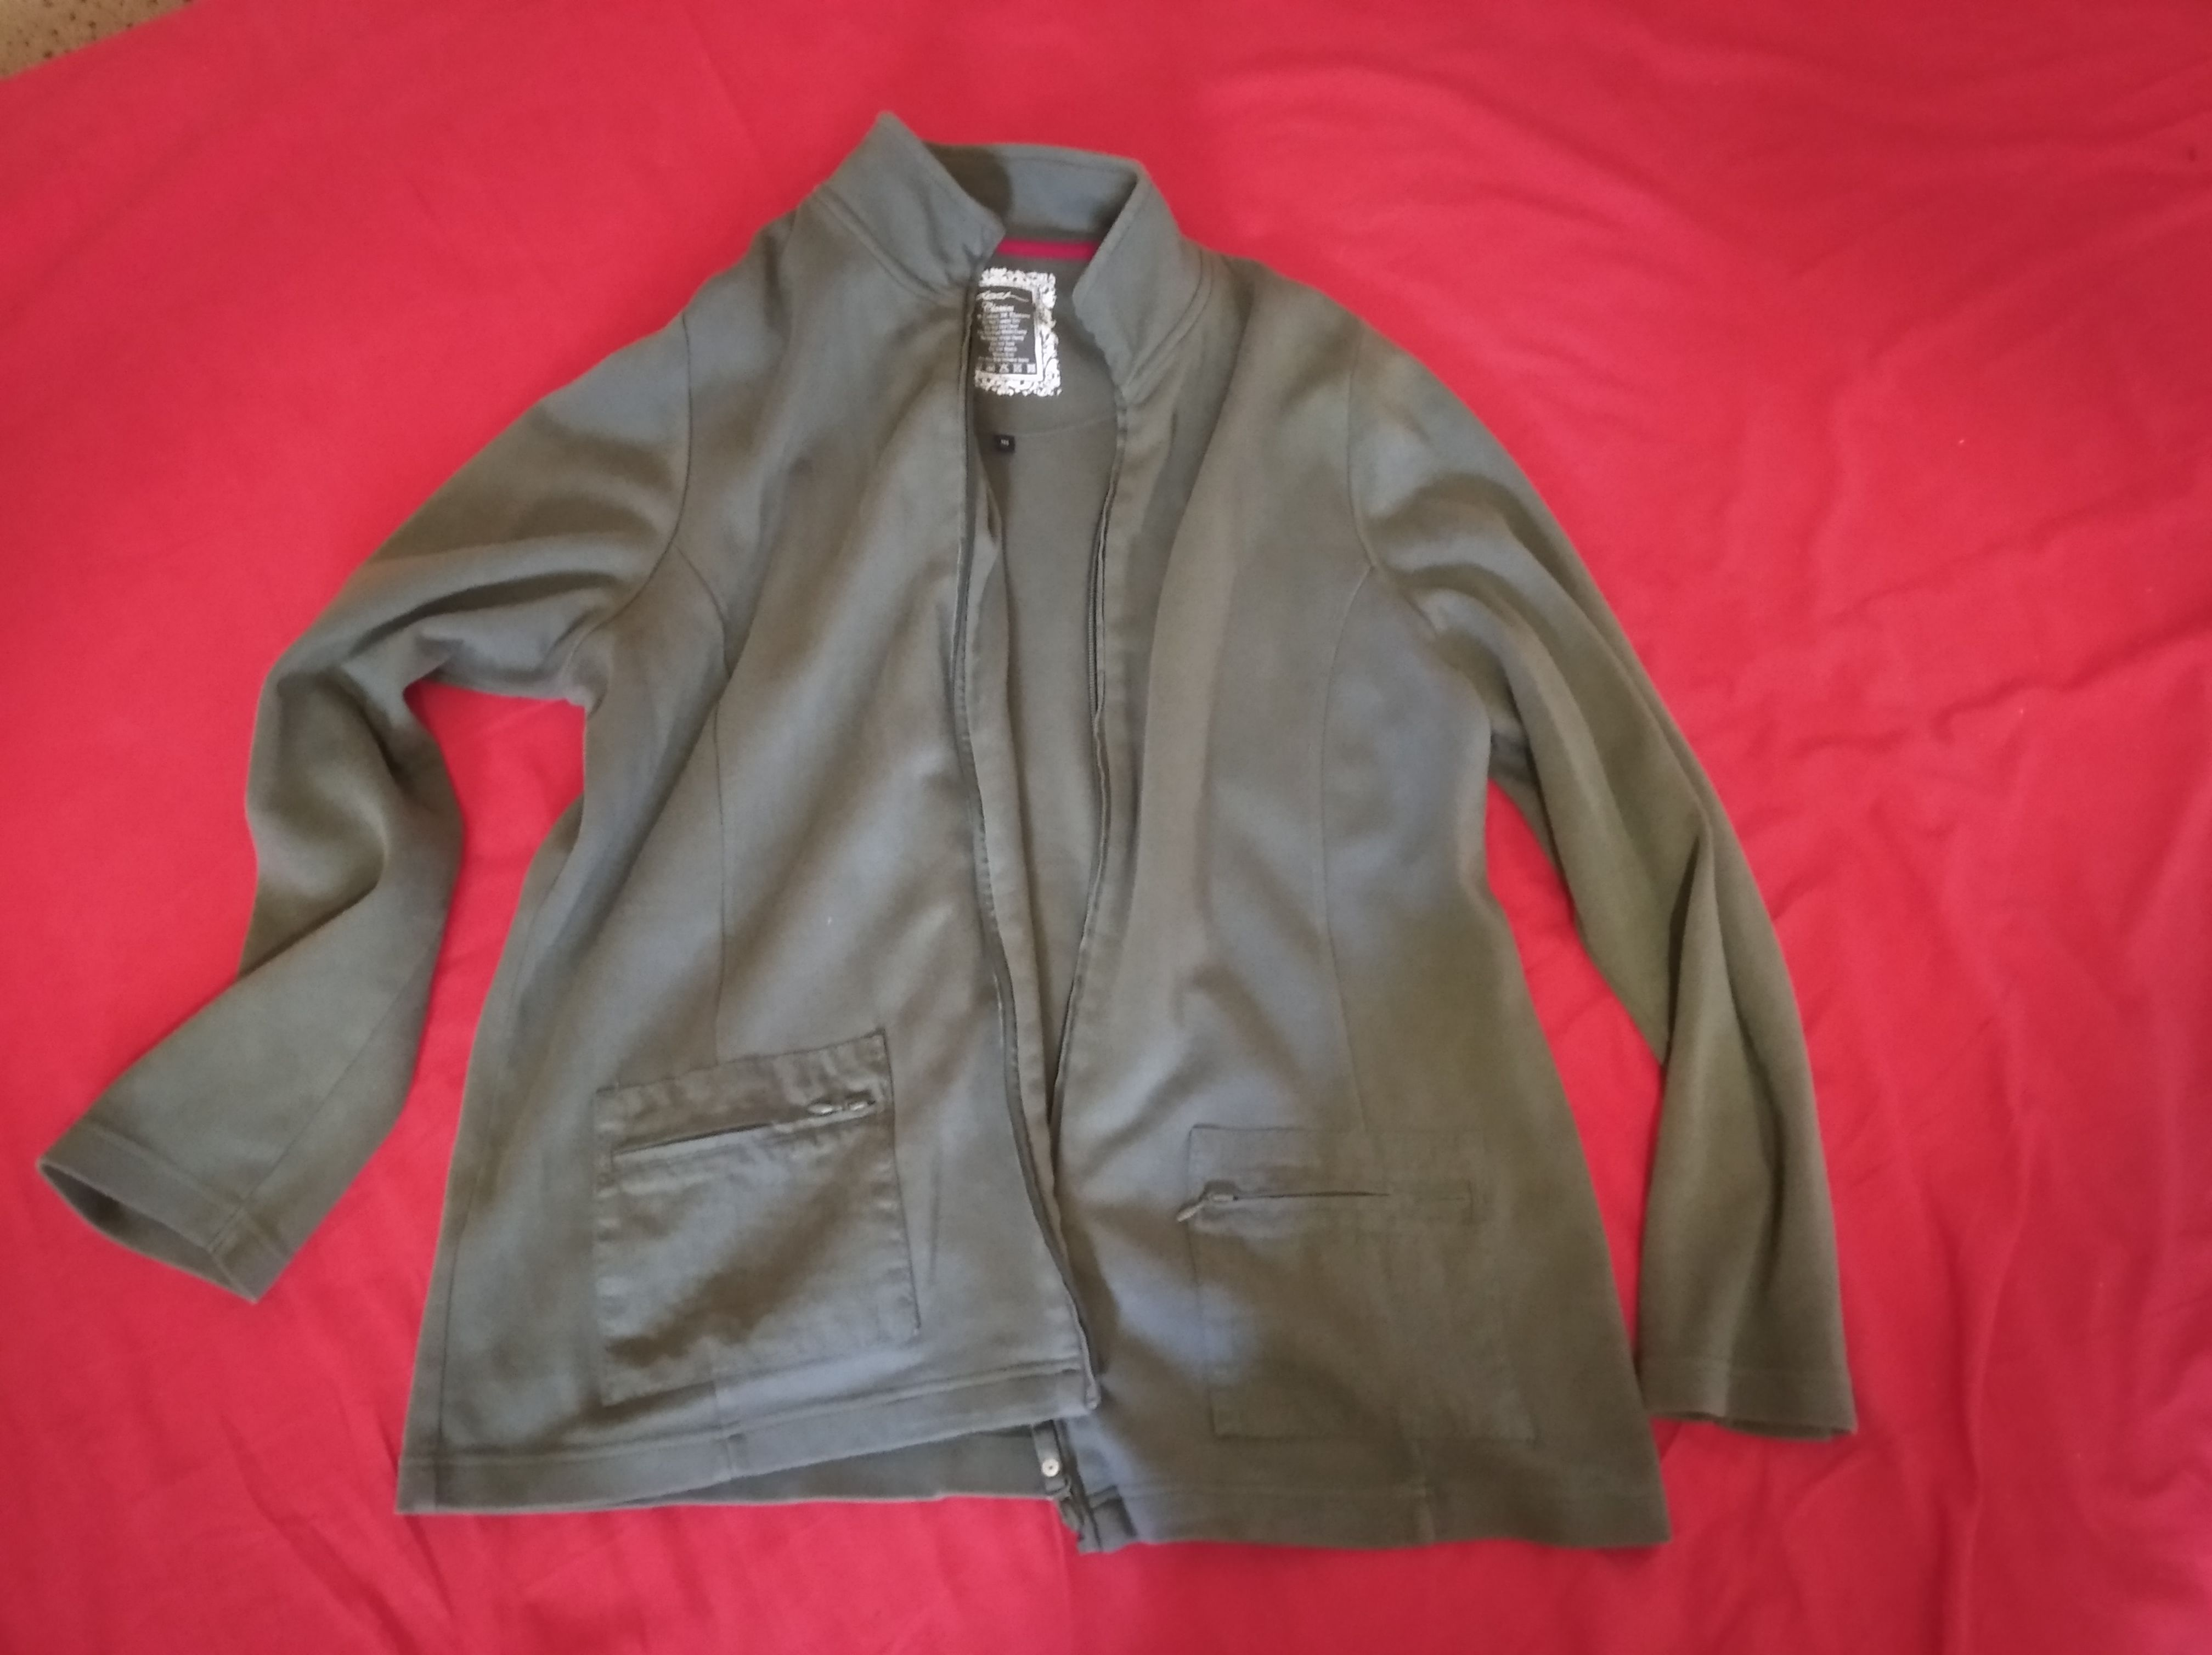clothes: (49, 118, 1875, 1589)
